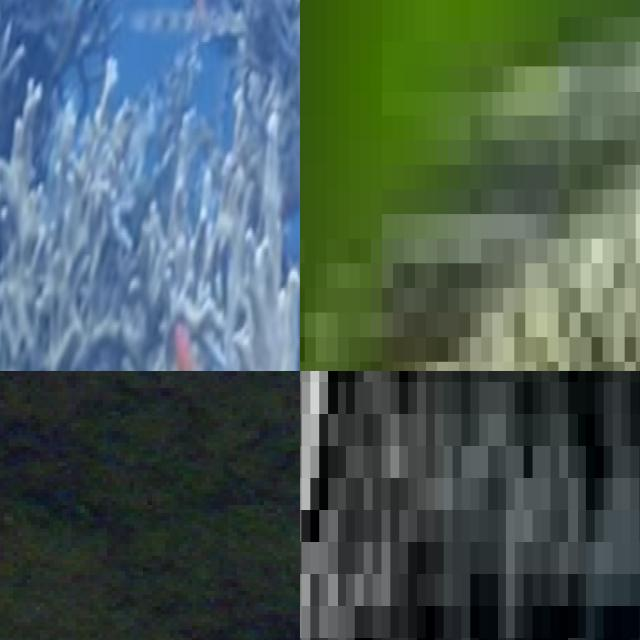fish: (0, 0, 300, 371), (300, 371, 640, 640), (300, 214, 640, 371), (152, 371, 300, 640)
